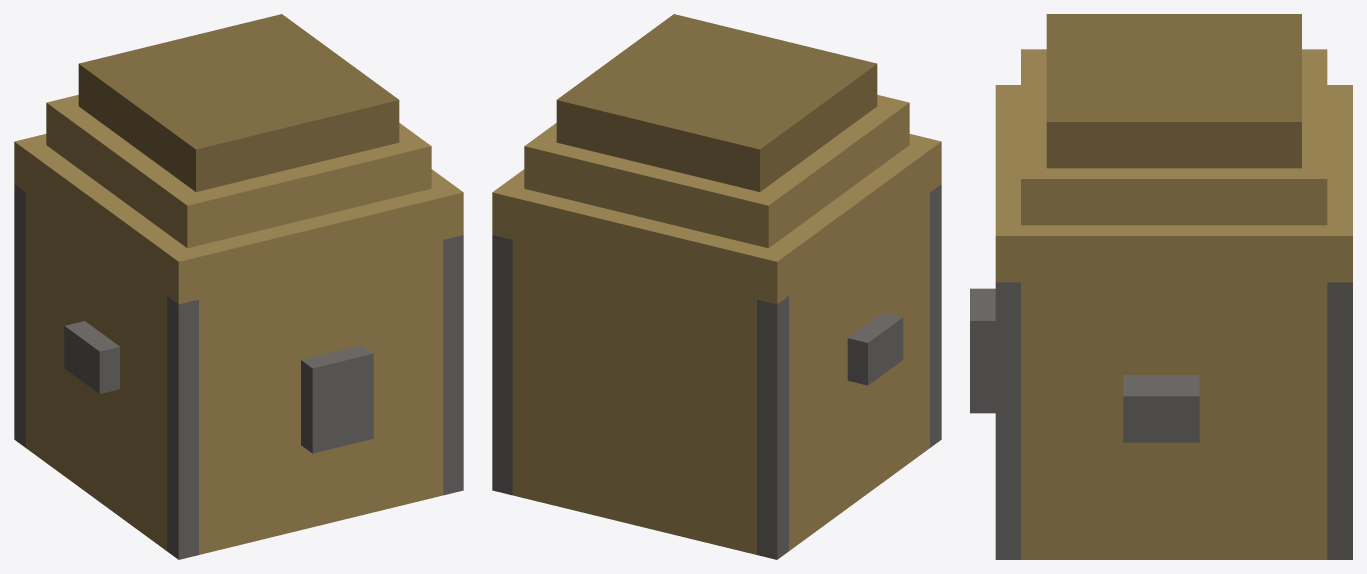
Rendered from barril_cerveza_casera_desgastada_01.glb.
3 renders of one model, left to right at view 1: azimuth 30°, elevation 25°; view 2: azimuth 150°, elevation 25°; view 3: azimuth 270°, elevation 25°, orthographic. The views are drawn at different scales.
Parts seen in each view (by area): view 1: barril_cerveza_casera_desgastada; view 2: barril_cerveza_casera_desgastada; view 3: barril_cerveza_casera_desgastada.
Boxes of the visible parts, left/top/right/bottom form: barril_cerveza_casera_desgastada: left=14, top=14, right=463, bottom=559; barril_cerveza_casera_desgastada: left=492, top=14, right=941, bottom=559; barril_cerveza_casera_desgastada: left=970, top=14, right=1352, bottom=559.
Size of the model in its own units: 1.21 by 1.29 by 1.07.
